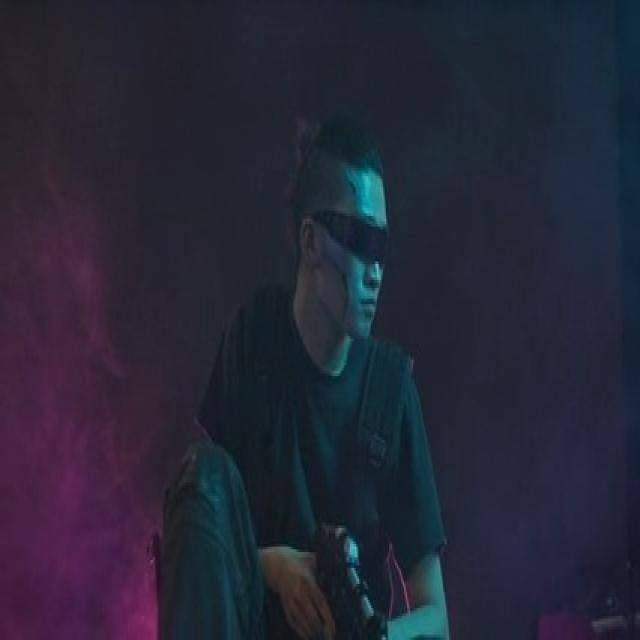Gun_Holder: (279, 515, 396, 640)
Person: (139, 121, 454, 640)
